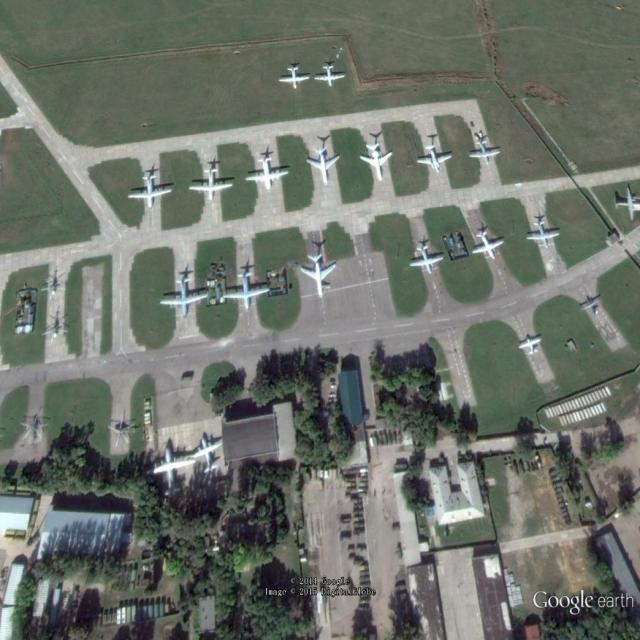aircraft: (144, 439, 198, 490), (221, 268, 273, 314), (159, 273, 211, 318), (299, 250, 339, 301), (244, 154, 293, 192), (187, 167, 236, 204), (126, 175, 176, 210), (359, 142, 398, 185), (187, 435, 227, 473), (468, 131, 505, 172), (413, 146, 456, 181), (306, 148, 343, 187), (525, 219, 563, 251), (409, 246, 446, 276), (470, 231, 507, 261), (613, 183, 639, 223), (313, 64, 349, 91), (278, 66, 314, 92), (518, 333, 545, 358), (578, 294, 605, 318)
